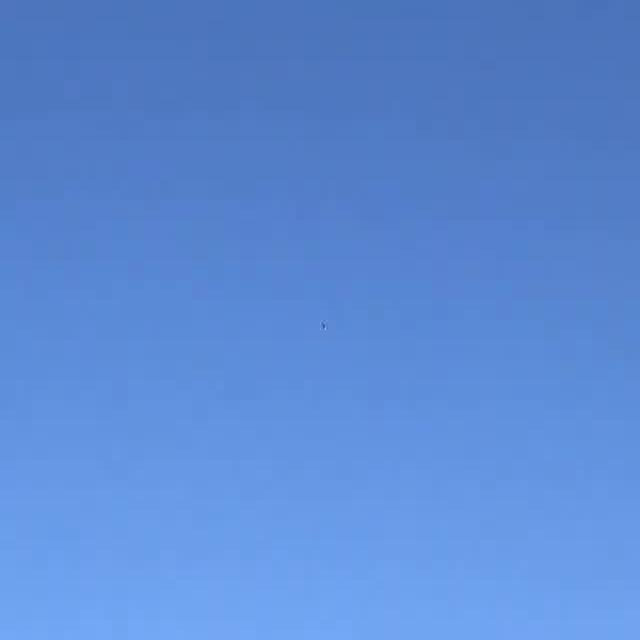bird: (321, 316, 333, 334)
